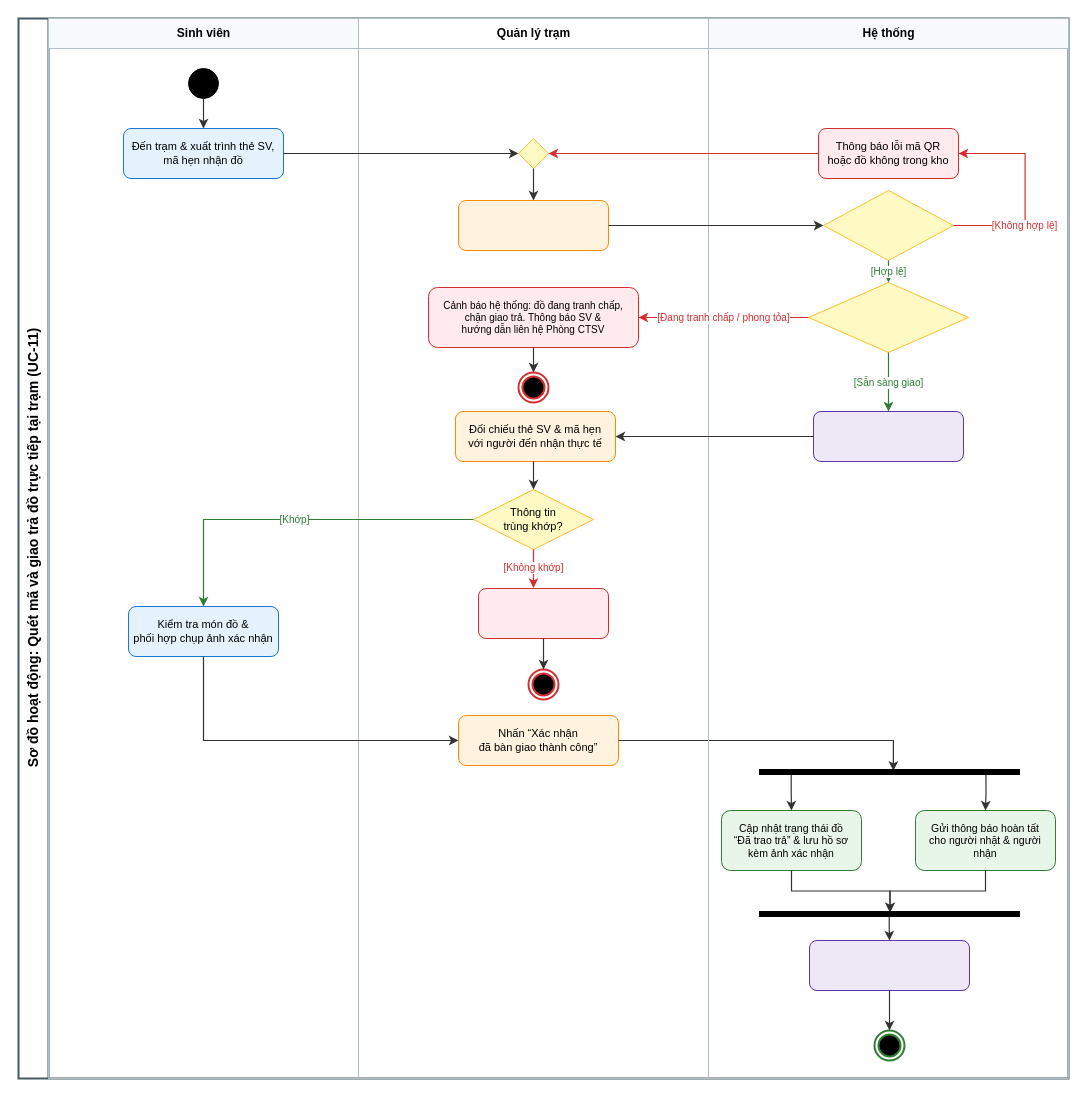
Image size: 1086x1096. Some labels were removed from this diagram. Here are the shapes that lost their labels. From the top down, the centre of each, then its label:
At (x=533, y=225): "Quét mã QR trên món đồ lưu kho tại trạm".
At (x=888, y=225): "Mã QR hợp lệ trong kho?".
At (x=888, y=317): "Đồ đang tranh chấp / lịch hẹn bị phong tỏa?".
At (x=888, y=436): "Hiển thị chi tiết vật phẩm & hồ sơ đăng ký nhận đồ".
At (x=543, y=613): "Từ chối bàn giao & lập ghi chú nghi vấn".
At (x=889, y=965): "Lưu lịch sử bàn giao & hiển thị kết quả thành công".
